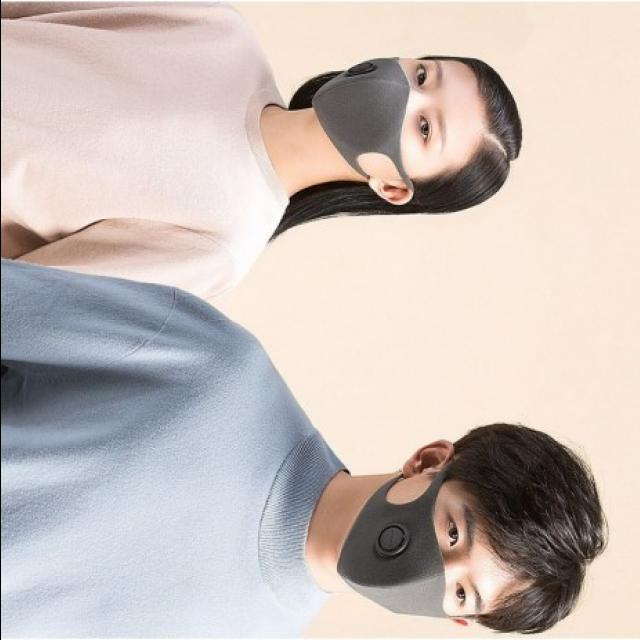with_mask: (338, 479, 488, 620), (312, 58, 454, 180)
